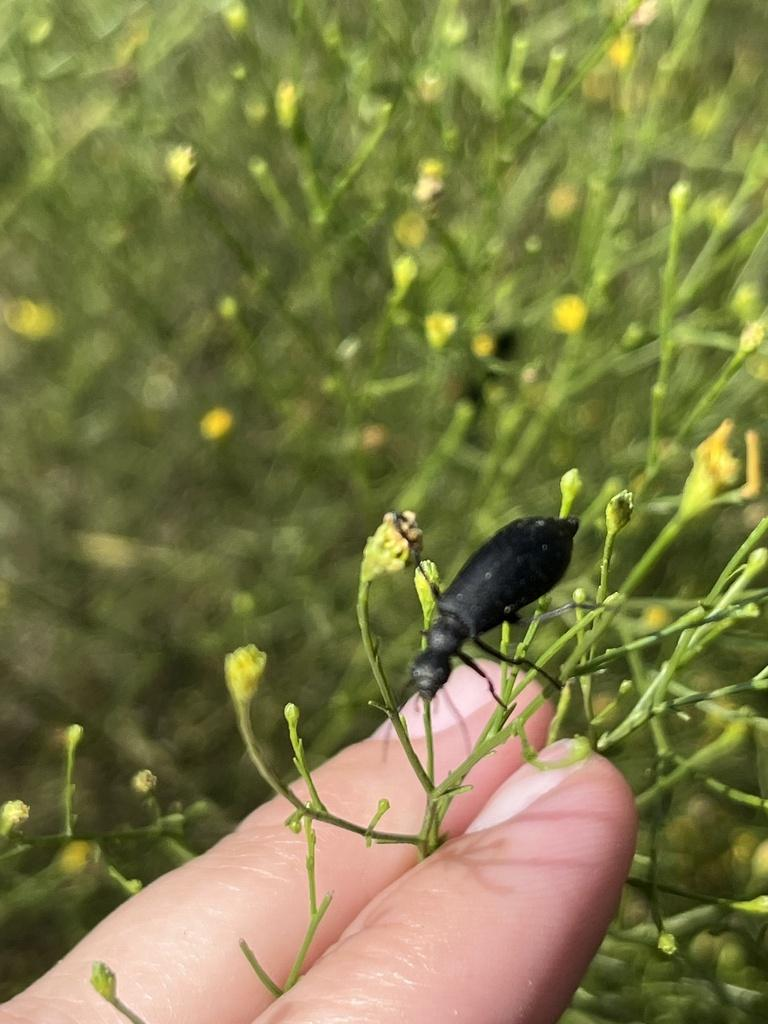blister_beetle: (374, 483, 595, 729)
